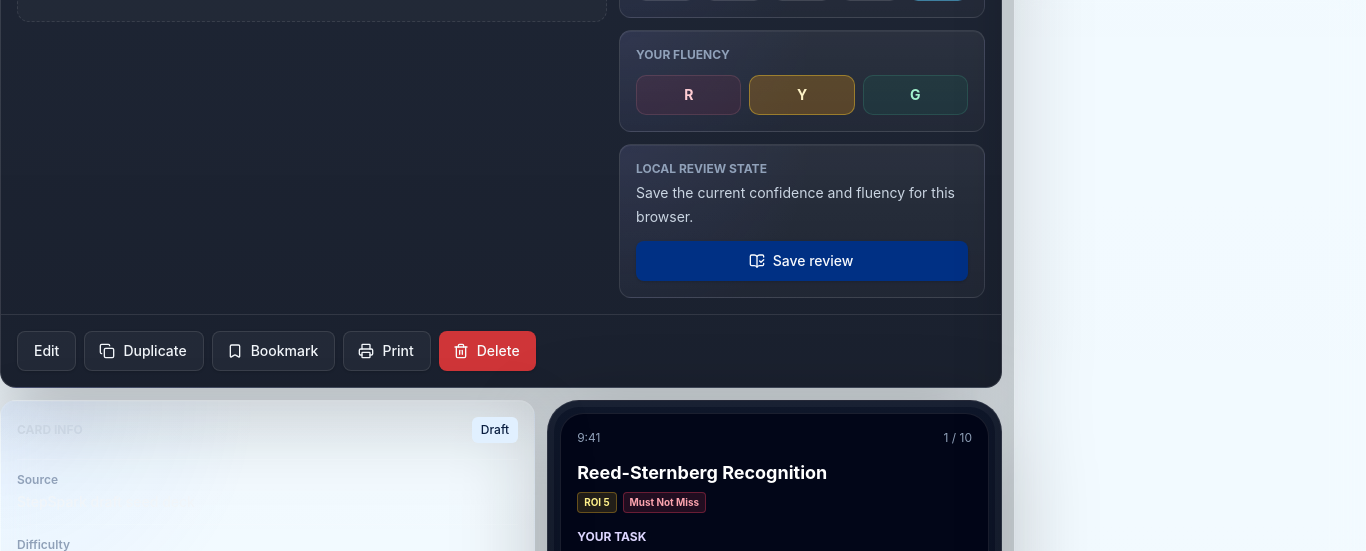
InstantRecallEngine › requires visible confirmation before deleting a card
(page scrolled)
Click the button "Delete". click: click(487, 351)
box: [439,331,536,371]
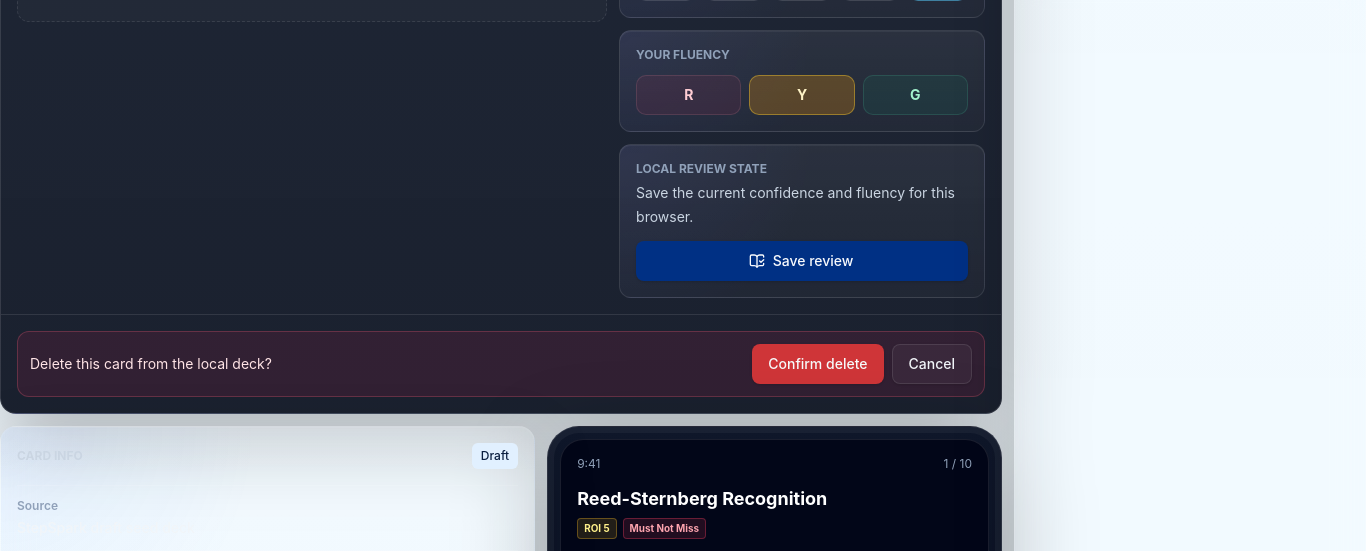
Result: the button "Confirm delete" is shown at [752,344,884,384]
Click the button "Cancel". click: click(932, 364)
box: [892,344,972,384]
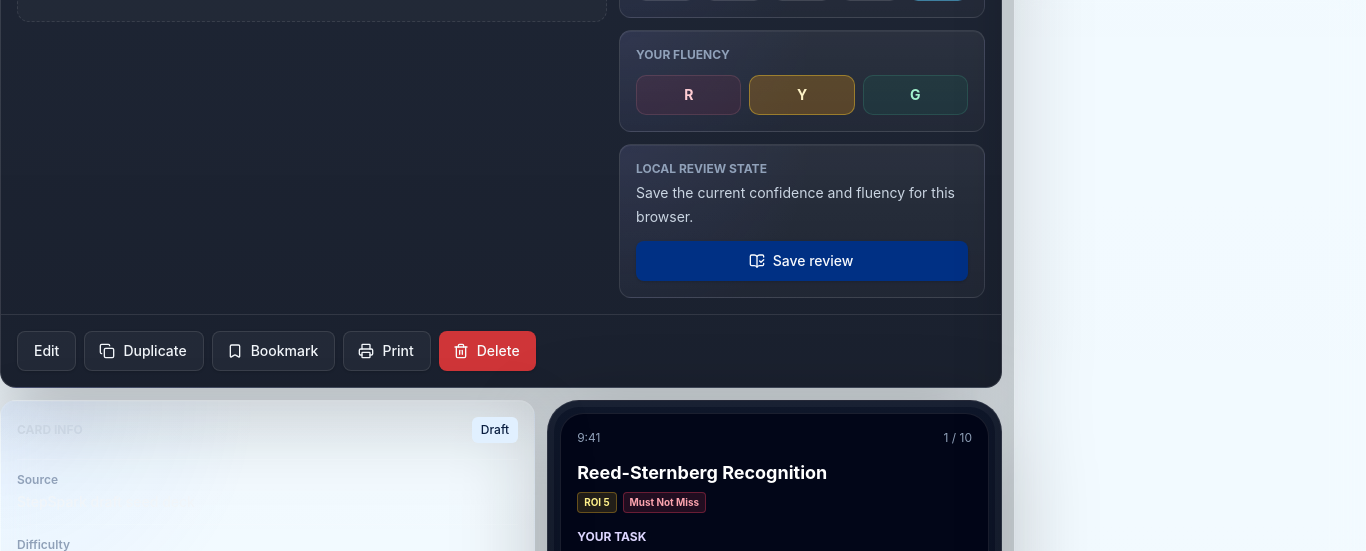
Result: the text "Delete this card from the local deck" is gone
